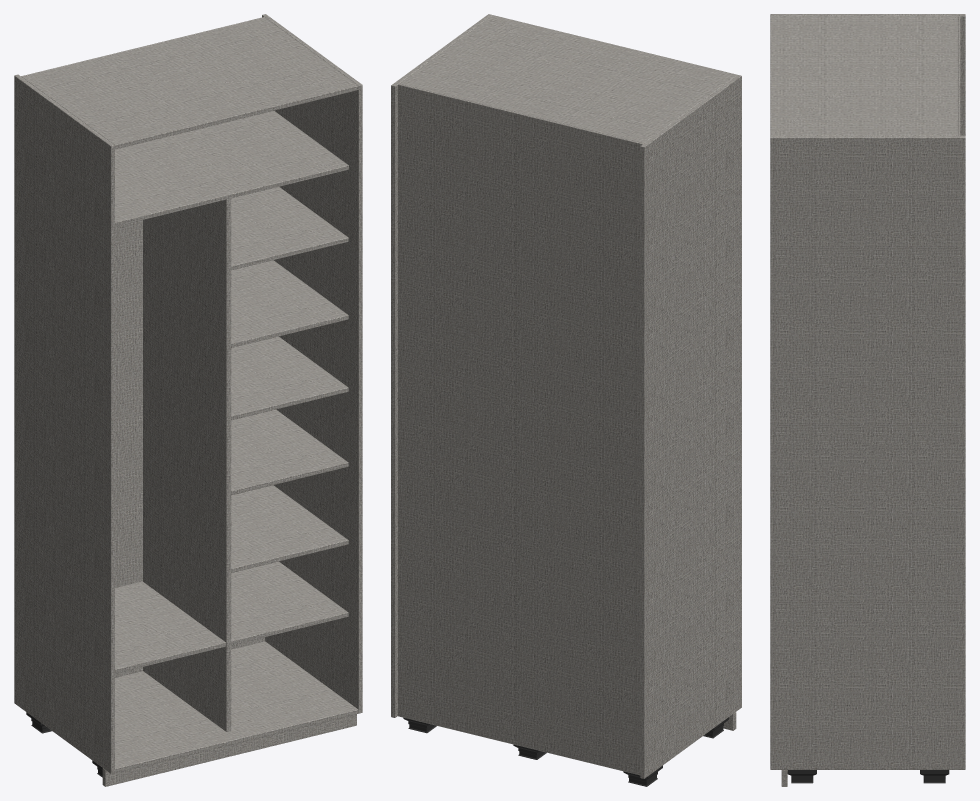
File: cbib12156.gltf
3 renders of one model, left to right at view 1: azimuth 30°, elevation 25°; view 2: azimuth 150°, elevation 25°; view 3: azimuth 270°, elevation 25°, orthographic.
Parts seen in each view (by area): view 1: CBIB12156; view 2: CBIB12156; view 3: CBIB12156.
Part boxes in pixels (box(x1,y1,x2,y2)): CBIB12156: box(14, 14, 362, 786); CBIB12156: box(391, 14, 741, 786); CBIB12156: box(770, 14, 965, 786).
Size of the model in its own units: 0.9 by 2.2 by 0.6.
Materials: 3 (2 with a texture image).
